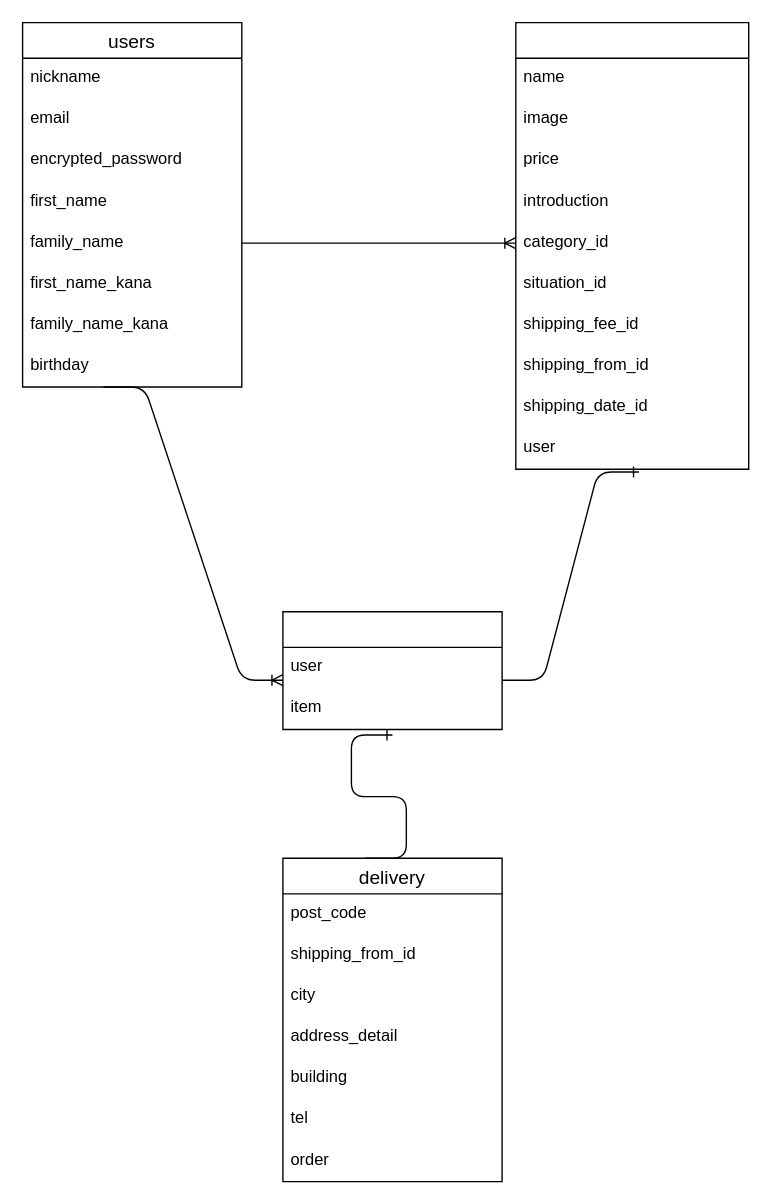
The diagram is 771 pixels wide and 1204 high, and some of its shapes have lost their labels. The shapes that lost their labels are listed below. From the top down, each one's box as (x1, y1, x2, y2) in pixels, then its label:
(514, 21, 749, 469): items
(282, 610, 502, 730): orders
